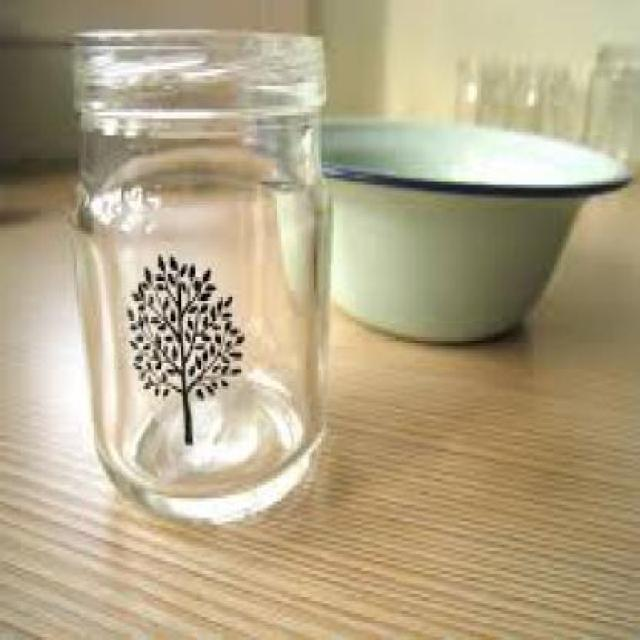kaca: (66, 26, 326, 522), (583, 40, 637, 158), (456, 54, 512, 120), (548, 63, 578, 139), (514, 60, 546, 126)
